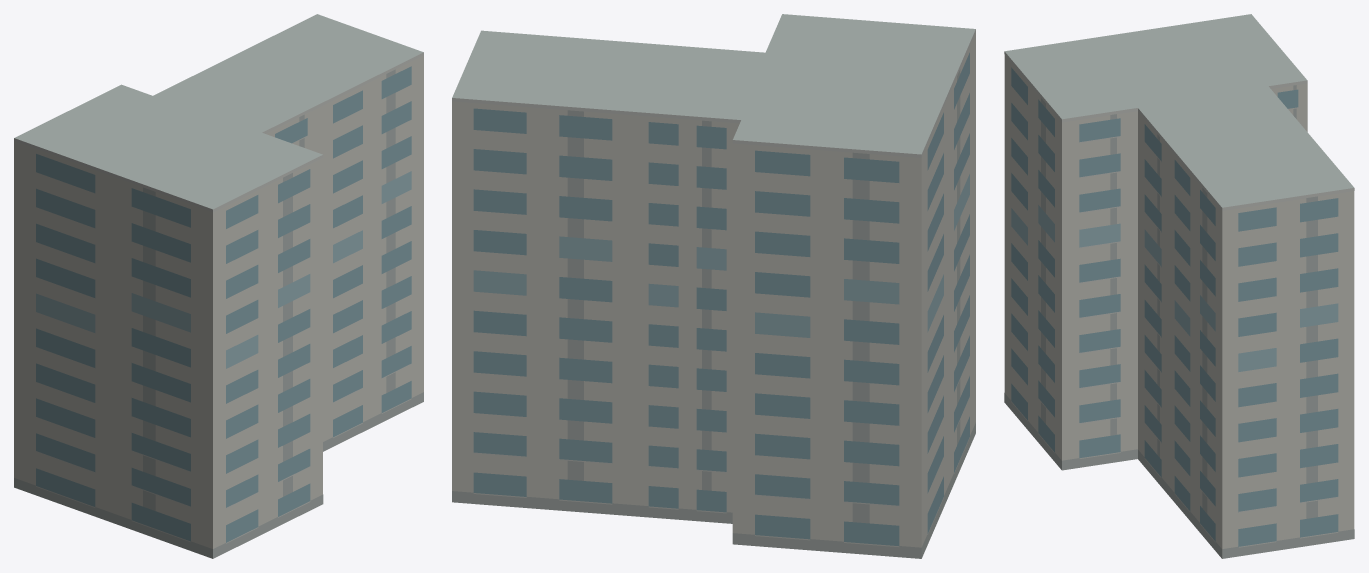
The model's file is residential-b6a396a5-67d7-47ad-8c57-86dd48c67560.glb.
The picture shows the model from 3 angles, left to right: view 1: azimuth 30°, elevation 25°; view 2: azimuth 150°, elevation 25°; view 3: azimuth 270°, elevation 25°; orthographic projection. The views are drawn at different scales.
Parts seen in each view (by area): view 1: residential-b6a396a5-67d7-47ad-8c57-86dd48c67560.tmp; view 2: residential-b6a396a5-67d7-47ad-8c57-86dd48c67560.tmp; view 3: residential-b6a396a5-67d7-47ad-8c57-86dd48c67560.tmp.
Part boxes in pixels (x1,y1,x2,y2): residential-b6a396a5-67d7-47ad-8c57-86dd48c67560.tmp: [14, 14, 423, 558]; residential-b6a396a5-67d7-47ad-8c57-86dd48c67560.tmp: [452, 14, 975, 558]; residential-b6a396a5-67d7-47ad-8c57-86dd48c67560.tmp: [1004, 14, 1354, 558].
Bounding box in the file's own units: 33.14 × 28 × 25.3.
